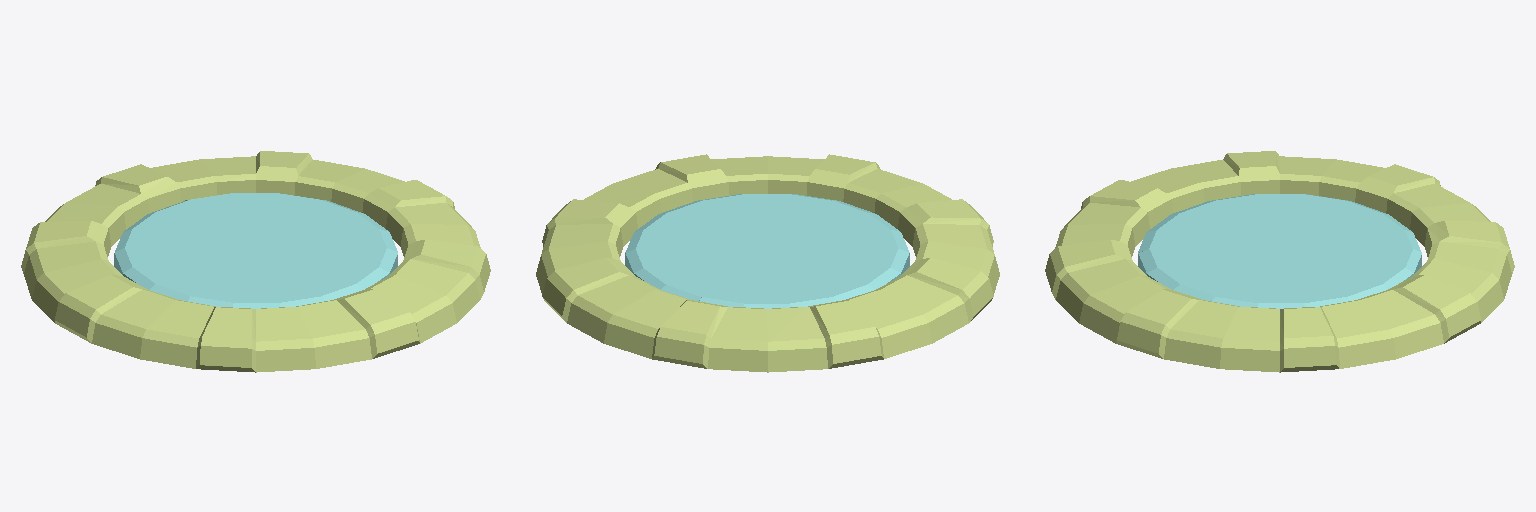
File: trap.obj
The picture shows the model from 3 angles: view 1: azimuth 30°, elevation 25°; view 2: azimuth 150°, elevation 25°; view 3: azimuth 270°, elevation 25°; orthographic projection.
Visible parts, largest first — view 1: Cone001, Cylinder001, Cylinder002; view 2: Cone001, Cylinder001, Cylinder002; view 3: Cone001, Cylinder002, Cylinder001.
Boxes of the visible parts, x1=… form: Cone001: x1=21, y1=151, x2=490, y2=372; Cylinder001: x1=114, y1=200, x2=324, y2=308; Cylinder002: x1=185, y1=193, x2=397, y2=300; Cone001: x1=536, y1=154, x2=999, y2=372; Cylinder001: x1=700, y1=200, x2=909, y2=308; Cylinder002: x1=625, y1=194, x2=831, y2=300; Cone001: x1=1045, y1=151, x2=1514, y2=372; Cylinder002: x1=1138, y1=248, x2=1421, y2=308; Cylinder001: x1=1138, y1=194, x2=1420, y2=252.
Size of the model in its own units: 41.11 by 3.55 by 41.11.